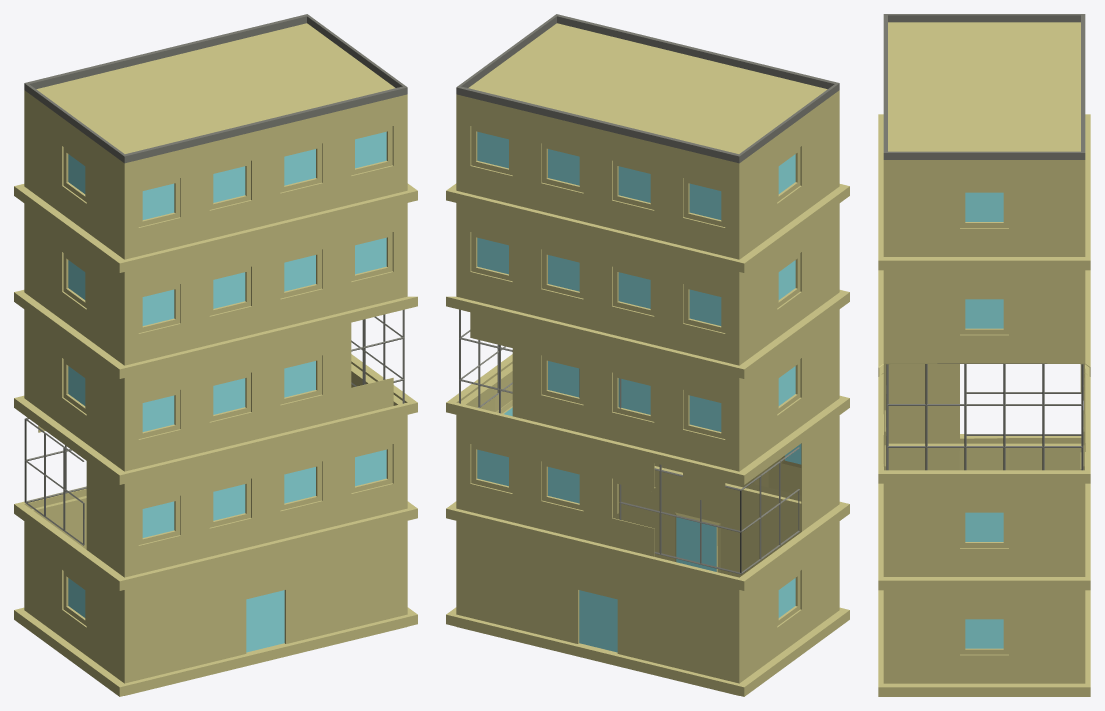
Rendered from house3.fbx.
3 renders of one model, left to right at view 1: azimuth 30°, elevation 25°; view 2: azimuth 150°, elevation 25°; view 3: azimuth 270°, elevation 25°, orthographic.
Parts seen in each view (by area): view 1: 立方體.007; view 2: 立方體.007; view 3: 立方體.007.
Part boxes in pixels (x1,y1,x2,y2): 立方體.007: (14, 14, 417, 696); 立方體.007: (446, 14, 849, 696); 立方體.007: (878, 14, 1090, 696).
Bounding box in the file's own units: 648 × 1120 × 398.
1 material, 1 textured.
